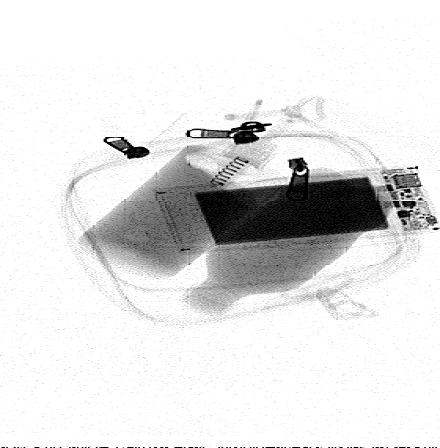Powerbank: (152, 162, 438, 255)
